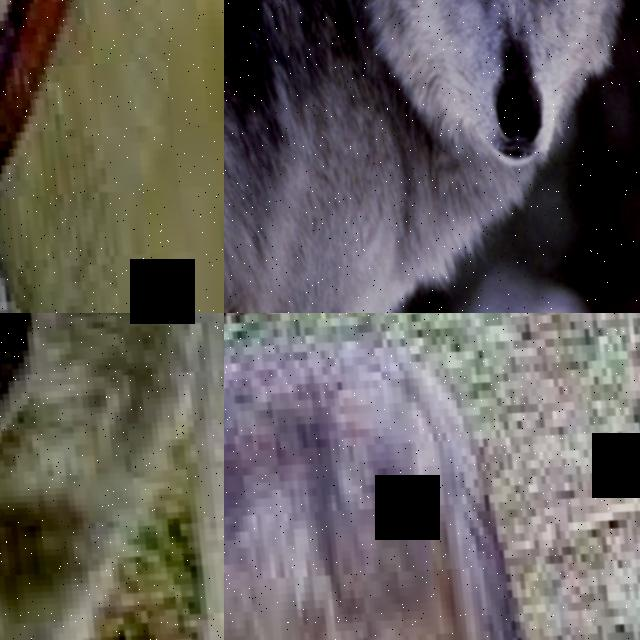dog: (0, 0, 224, 313)
wolf: (224, 0, 640, 313), (224, 313, 557, 640), (0, 313, 224, 640)
